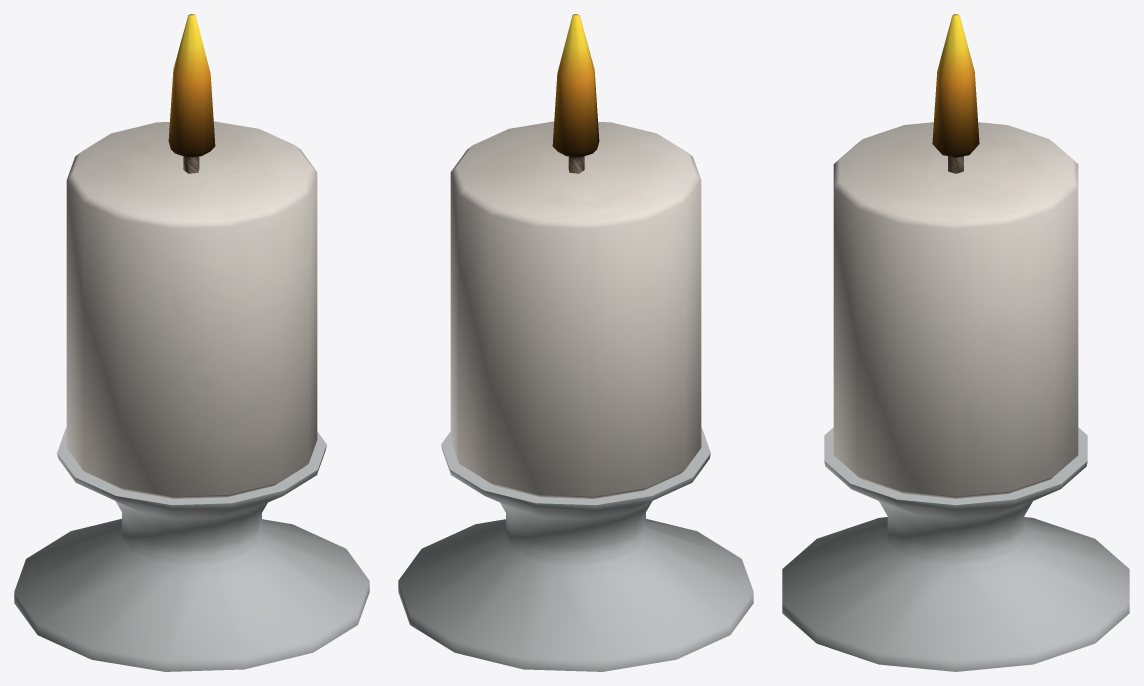
The model's file is DecorCandles01_4.FBX.
The picture shows the model from 3 angles, left to right: view 1: azimuth 30°, elevation 25°; view 2: azimuth 150°, elevation 25°; view 3: azimuth 270°, elevation 25°; orthographic projection.
Parts seen in each view (by area): view 1: DecorCandles01_4; view 2: DecorCandles01_4; view 3: DecorCandles01_4.
Boxes of the visible parts, bbox=[...] form: DecorCandles01_4: bbox=[14, 14, 369, 671]; DecorCandles01_4: bbox=[398, 14, 753, 671]; DecorCandles01_4: bbox=[782, 14, 1129, 671].
Size of what is drawn, in the model's own units: 0.11 by 0.1981 by 0.1072.
